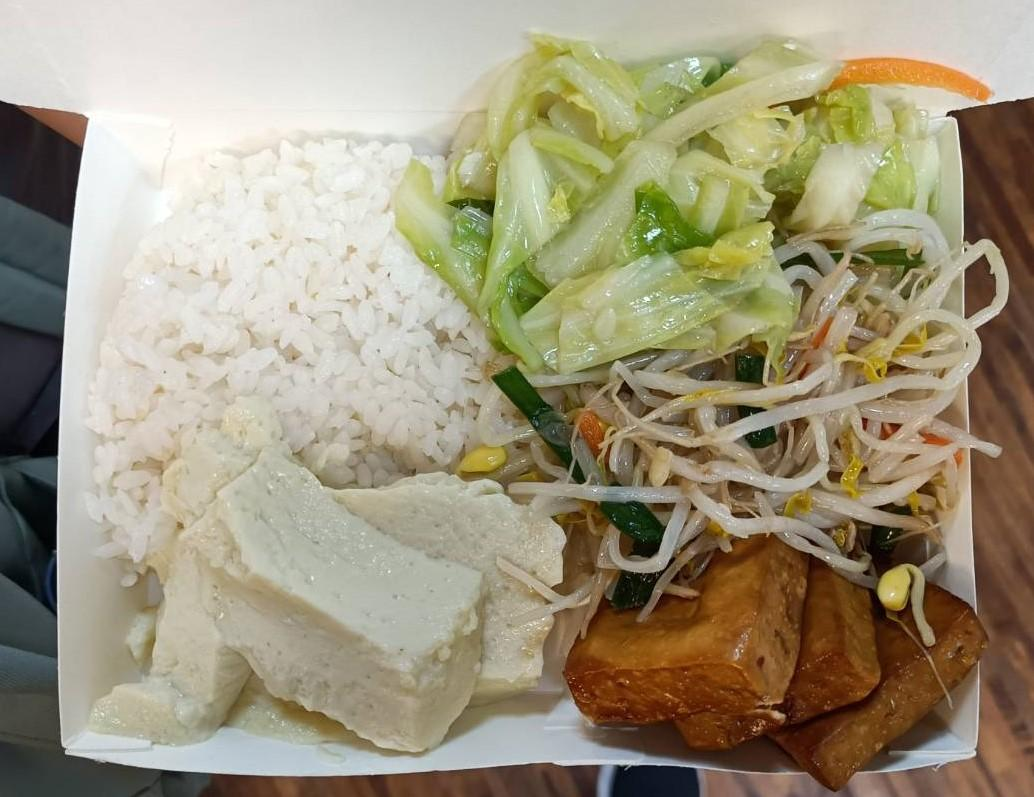big herbal chicken leg: (97, 122, 510, 507)
braised fish fillet: (461, 40, 954, 360), (102, 465, 564, 750), (588, 247, 1009, 532), (582, 520, 988, 788)
